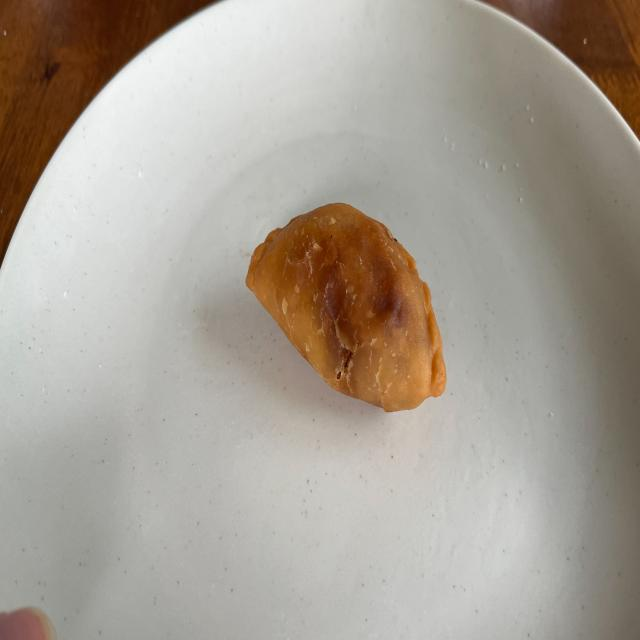karipap: (246, 202, 446, 411)
